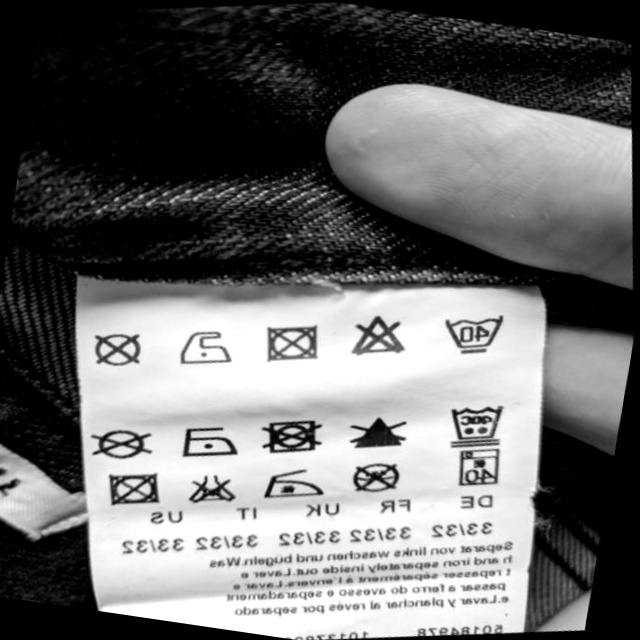40C: (443, 396, 511, 451), (440, 307, 505, 362), (453, 448, 504, 491)
DN_bleach: (348, 309, 413, 363), (347, 408, 412, 457)
DN_dry_clean: (92, 416, 152, 464), (90, 326, 148, 373), (347, 453, 404, 498)
DN_tumble_dry: (258, 314, 325, 370), (259, 408, 323, 459), (99, 464, 165, 512)
iron_low: (177, 322, 238, 374), (176, 418, 239, 463), (260, 464, 320, 503)
